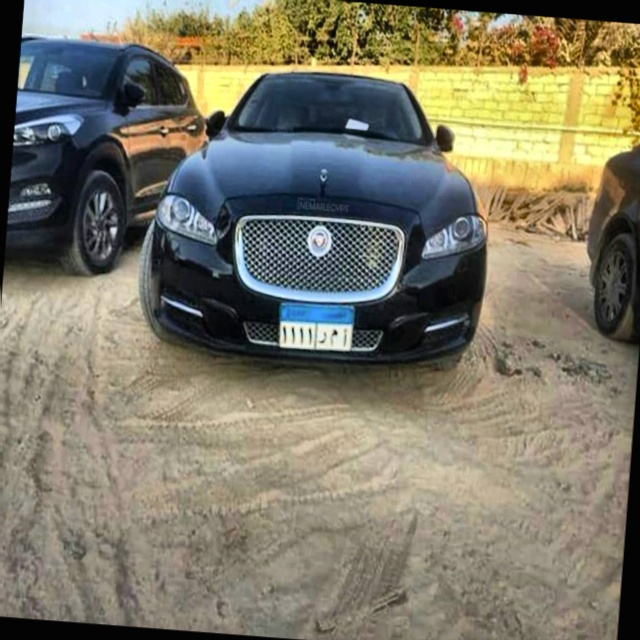License Plate: (273, 295, 358, 356)
